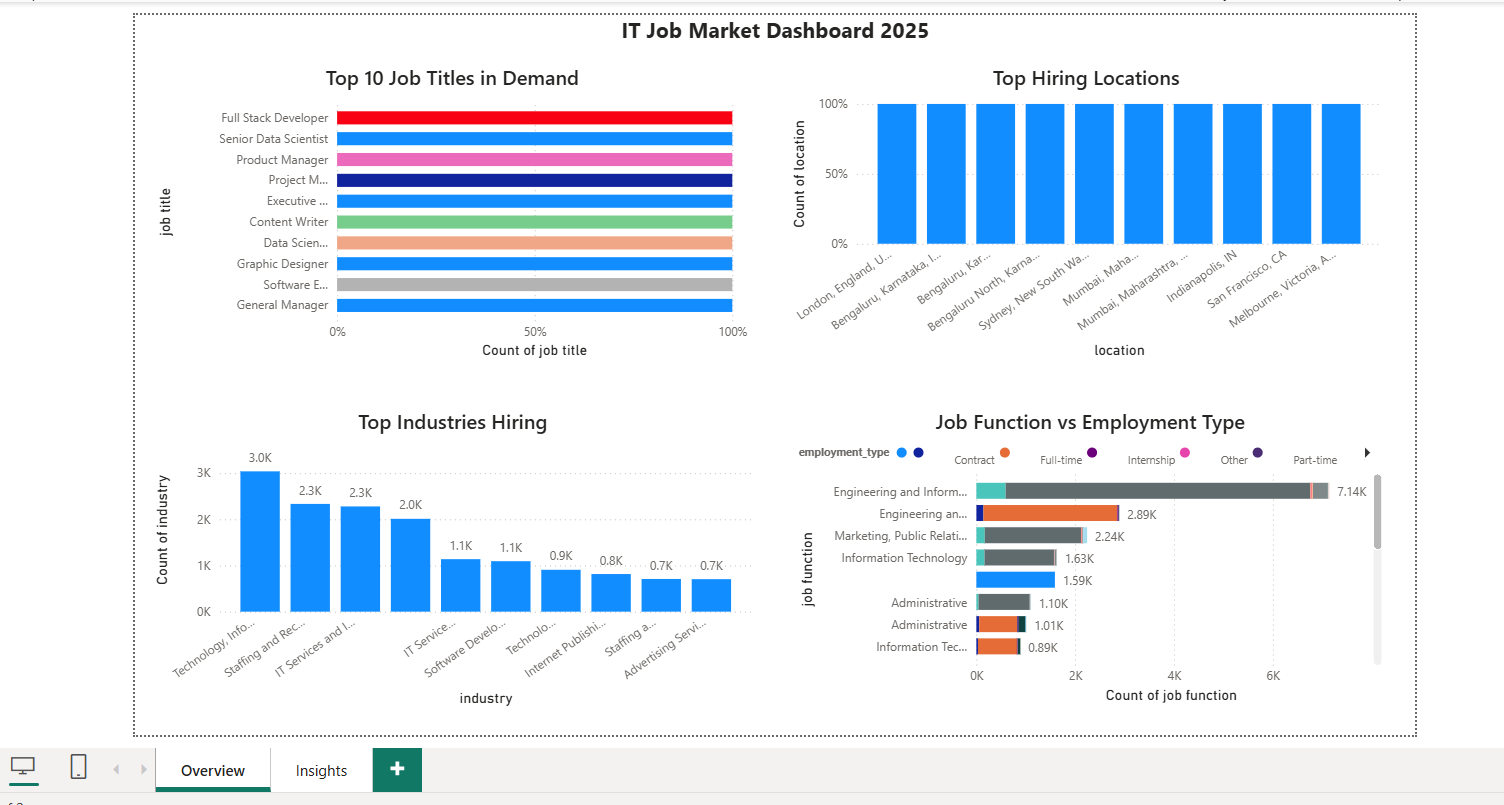

This screenshot's page, from the dashboard's own definition file:
{"tool":"powerbi","page":{"name":"Overview","canvas":[1280,720],"ordinal":0},"visuals":[{"type":"hundredPercentStackedBarChart","title":" Top 10 Job Titles in Demand","fields":{"Category":["job_data.job_title"],"Y":["CountNonNull(job_data.job_title)"]},"box":[18.1,48.6,600,300],"z":0},{"type":"hundredPercentStackedColumnChart","title":" Top Hiring Locations","fields":{"Category":["job_data.location"],"Y":["CountNonNull(job_data.location)"]},"box":[651.4,48.6,600,300],"z":1000},{"type":"clusteredColumnChart","title":"Top Industries Hiring","fields":{"Category":["job_data.industry"],"Y":["CountNonNull(job_data.industry)"]},"box":[13.9,393.1,608.3,304.2],"z":2000},{"type":"barChart","title":" Job Function vs Employment Type","fields":{"Category":["job_data.job_function"],"Y":["CountNonNull(job_data.job_function)"],"Series":["job_data.employment_type"]},"box":[658.3,393.1,593.1,300],"z":3000},{"type":"textbox","title":" IT Job Market Dashboard 2025","box":[436.1,0,408.3,36.1],"z":3001}]}

Visuals, with their boxes on the page's 1280x720 design canvas (x1, y1, x2, y2). These are canvas units, not pixel positions in the 1504x805 screenshot, which may show the page scaled, cropped or inside an application window:
" Top 10 Job Titles in Demand" hundredPercentStackedBarChart: bbox=[18, 49, 618, 349]
" Top Hiring Locations" hundredPercentStackedColumnChart: bbox=[651, 49, 1251, 349]
"Top Industries Hiring" clusteredColumnChart: bbox=[14, 393, 622, 697]
" Job Function vs Employment Type" barChart: bbox=[658, 393, 1251, 693]
" IT Job Market Dashboard 2025" textbox: bbox=[436, 0, 844, 36]
